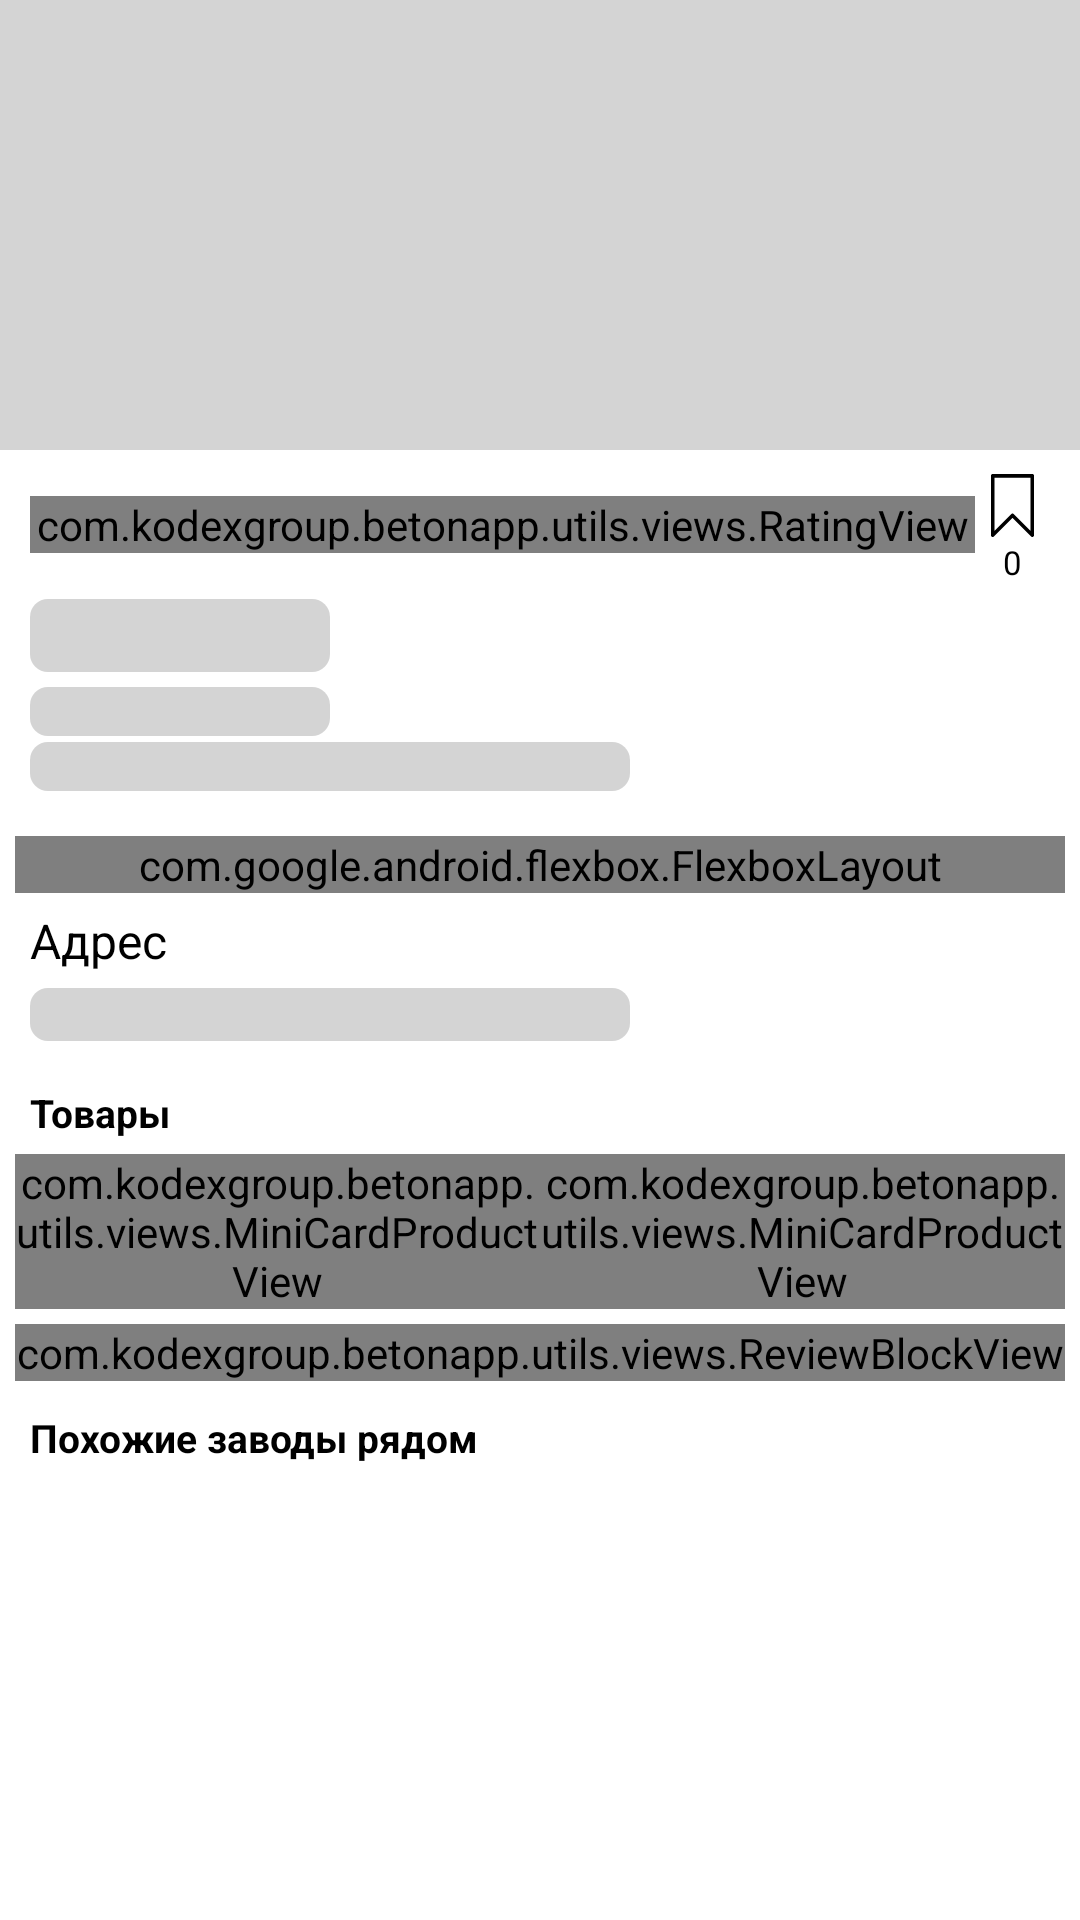

Icons on this 1080*1920 Android screen, each with its box as (x1, y1, x2, y2):
bookmark empty: (991, 474, 1034, 537)
